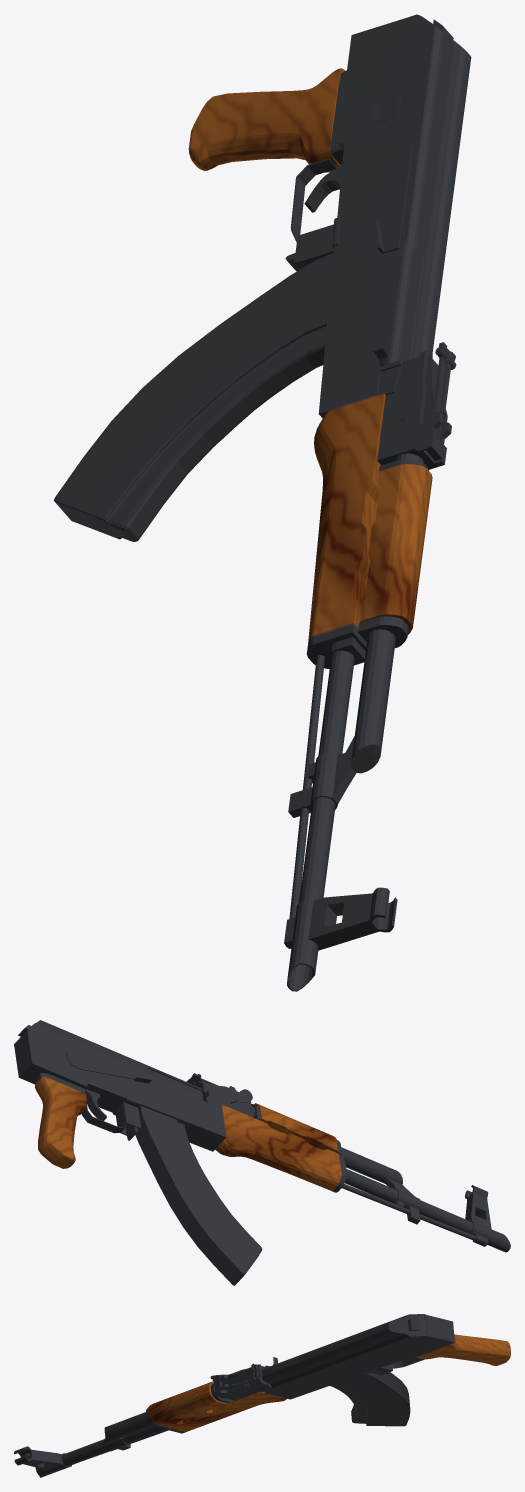
File: mhw_jaldmic_akm_base.glb
3 renders of one model, top to bottom at view 1: azimuth 30°, elevation 25°; view 2: azimuth 150°, elevation 25°; view 3: azimuth 270°, elevation 25°, orthographic. The views are drawn at different scales.
Visible parts, largest first — view 1: mhw_jaldmic_akm_base; view 2: mhw_jaldmic_akm_base; view 3: mhw_jaldmic_akm_base.
Part boxes in pixels (<box>): mhw_jaldmic_akm_base: <box>53,14,471,991</box>; mhw_jaldmic_akm_base: <box>14,1020,510,1285</box>; mhw_jaldmic_akm_base: <box>14,1314,510,1477</box>.
Size of the model in its own units: 0.4237 by 0.4291 by 0.6741.
Materials: 1 (1 with a texture image).
